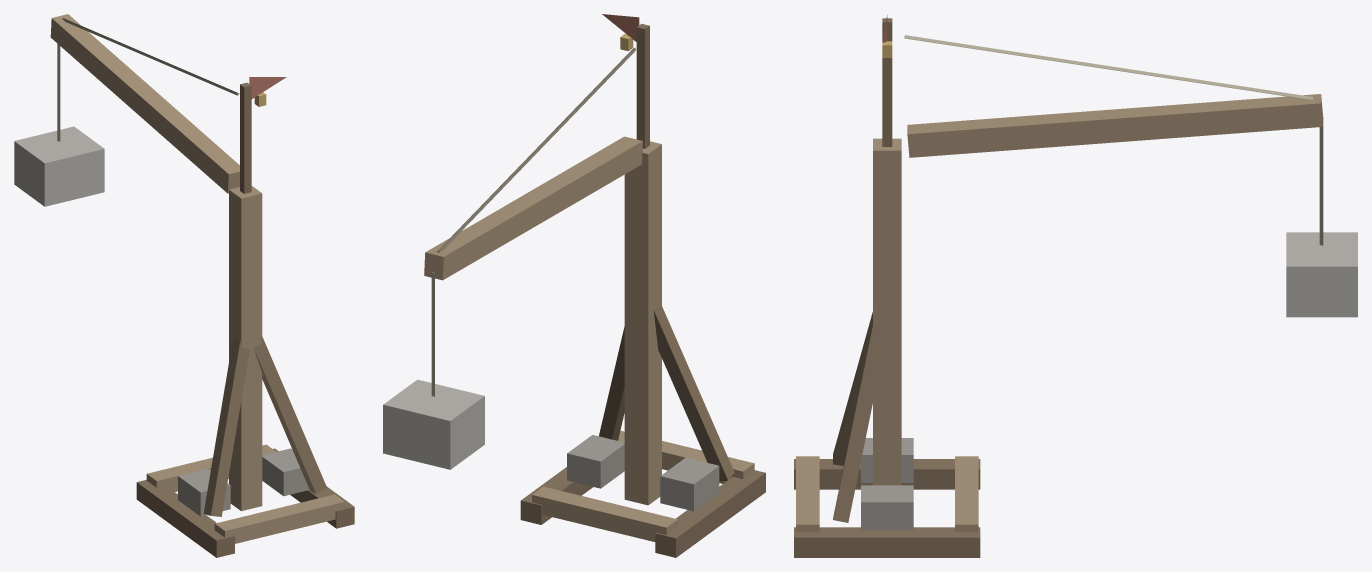
The model's file is crane_big_far.glb.
3 renders of one model, left to right at view 1: azimuth 30°, elevation 25°; view 2: azimuth 150°, elevation 25°; view 3: azimuth 270°, elevation 25°, orthographic. The views are drawn at different scales.
Size of the model in its own units: 3 by 9 by 9.07.
